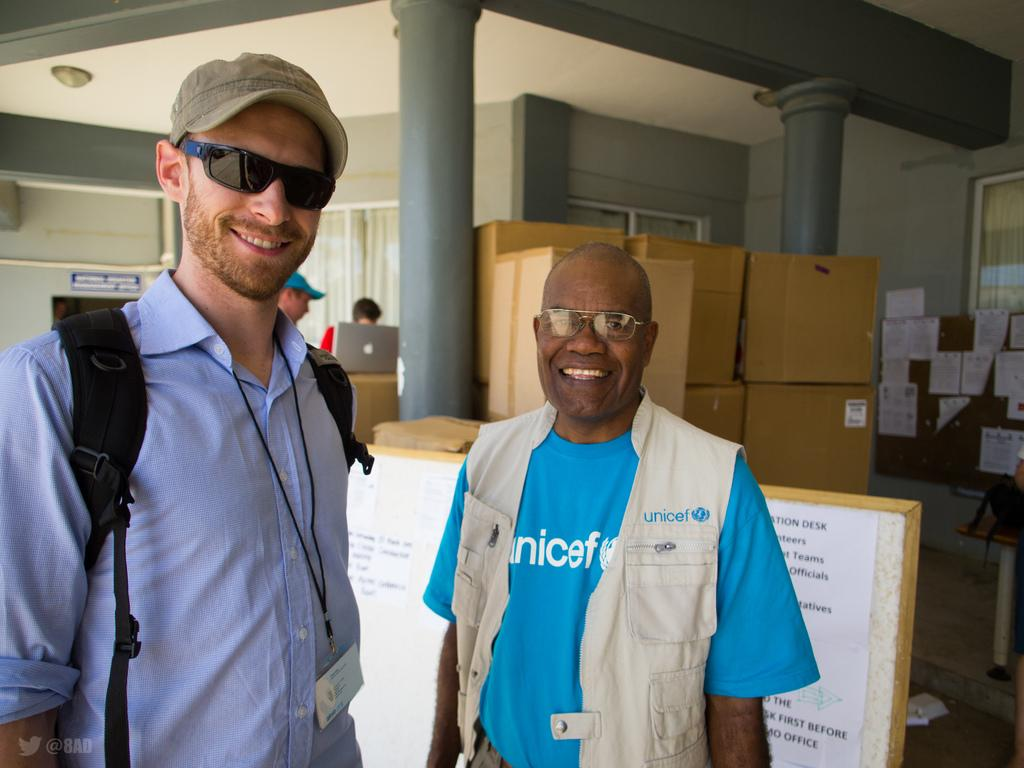Hat: (171, 52, 348, 182), (288, 268, 328, 296)
